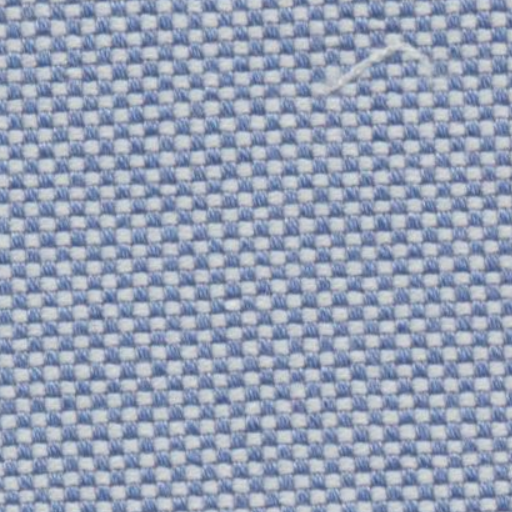DuanSha: (310, 32, 438, 100)
